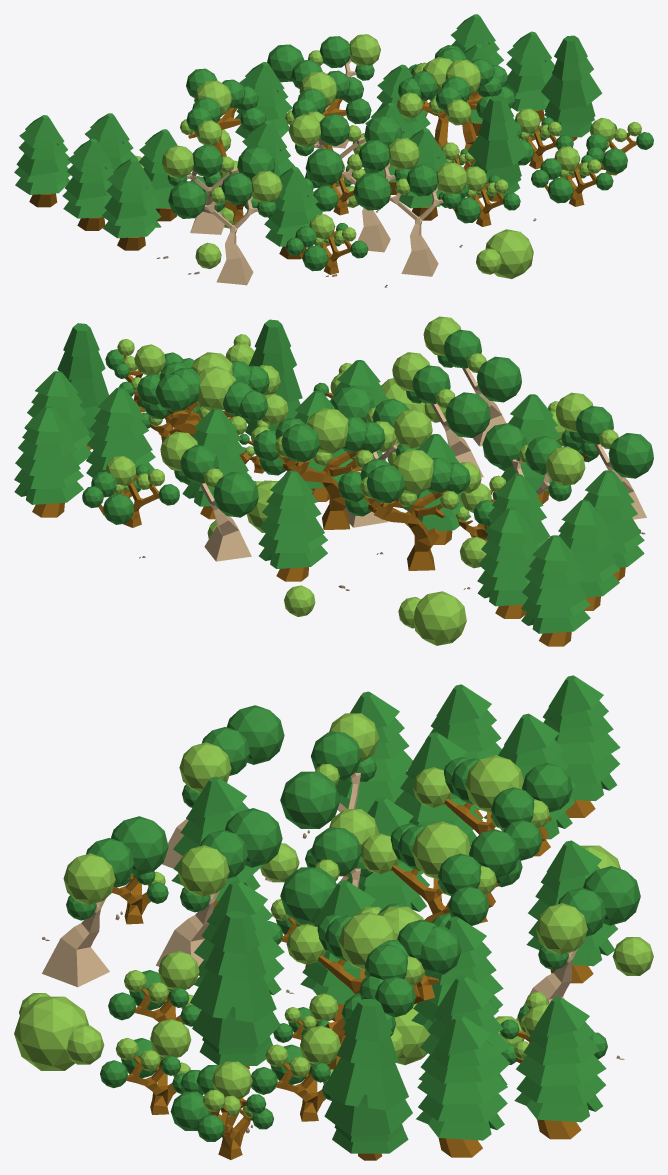
The model's file is SummerForestV1.fbx.
3 renders of one model, top to bottom at view 1: azimuth 30°, elevation 25°; view 2: azimuth 150°, elevation 25°; view 3: azimuth 270°, elevation 25°, orthographic. The views are drawn at different scales.
Visible parts, largest first — view 1: Icosphere.033, Tree1.002|Cube|Dupli|, Tree1.003|Cube|Dupli|, Cylinder.011, Tree5.001|Cylinder.011|Dupli|4, Tree1.003|Icosphere.004|Dupli|5, Tree1.002|Icosphere.004|Dupli|5, Tree1.001|Icosphere.004|Dupli|5, Tree1.001|Cube|Dupli|, Tree1|Cube|Dupli|, Tree1.004|Icosphere.004|Dupli|5, Tree1|Icosphere.004|Dupli|5 (+84 smaller); view 2: Tree2|Cube.001|Dupli|, Icosphere.030, Tree2.002|Cube.001|Dupli|, Tree1.003|Icosphere.004|Dupli|5, Tree1.004|Icosphere.004|Dupli|5, Tree1.001|Icosphere.004|Dupli|5, Tree1.002|Icosphere.004|Dupli|5, Tree1.004|Cube|Dupli|, Tree1|Icosphere.004|Dupli|5, Tree2|Icosphere.009|Dupli|5, Tree2.002|Icosphere.009|Dupli|5, Tree1|Icosphere.001|Dupli|2 (+98 smaller); view 3: Icosphere.033, Tree5.001|Cylinder.011|Dupli|4, Tree1.002|Cube|Dupli|, Tree1|Icosphere.004|Dupli|5, Cylinder.011, Icosphere.004, Tree5.001|Cylinder.010|Dupli|3, Tree1.004|Icosphere.004|Dupli|5, Tree1.003|Icosphere.004|Dupli|5, Tree1.001|Icosphere.004|Dupli|5, Tree1.002|Icosphere.004|Dupli|5, Tree2|Icosphere.009|Dupli|5 (+100 smaller).
Part boxes in pixels (x1,y1,x2,y2): Icosphere.033: [485, 229, 533, 278]; Tree1.002|Cube|Dupli|: [389, 187, 443, 276]; Tree1.003|Cube|Dupli|: [204, 195, 258, 285]; Cylinder.011: [541, 73, 602, 109]; Tree5.001|Cylinder.011|Dupli|4: [467, 133, 528, 169]; Tree1.003|Icosphere.004|Dupli|5: [168, 181, 206, 218]; Tree1.002|Icosphere.004|Dupli|5: [353, 172, 391, 210]; Tree1.001|Icosphere.004|Dupli|5: [305, 148, 343, 185]; Tree1.001|Cube|Dupli|: [341, 162, 395, 252]; Tree1|Cube|Dupli|: [187, 168, 238, 234]; Tree1.004|Icosphere.004|Dupli|5: [267, 44, 303, 82]; Tree1|Icosphere.004|Dupli|5: [237, 146, 275, 180]; Tree2|Cube.001|Dupli|: [363, 491, 446, 570]; Icosphere.030: [413, 591, 466, 645]; Tree2.002|Cube.001|Dupli|: [278, 450, 361, 529]; Tree1.003|Icosphere.004|Dupli|5: [608, 433, 653, 478]; Tree1.004|Icosphere.004|Dupli|5: [213, 472, 258, 517]; Tree1.001|Icosphere.004|Dupli|5: [445, 392, 490, 437]; Tree1.002|Icosphere.004|Dupli|5: [476, 356, 521, 402]; Tree1.004|Cube|Dupli|: [199, 483, 251, 561]; Tree1|Icosphere.004|Dupli|5: [482, 423, 527, 469]; Tree2|Icosphere.009|Dupli|5: [392, 449, 433, 494]; Tree2.002|Icosphere.009|Dupli|5: [306, 408, 348, 453]; Tree1|Icosphere.001|Dupli|2: [545, 446, 585, 485]; Icosphere.033: [14, 996, 88, 1070]; Tree5.001|Cylinder.011|Dupli|4: [190, 970, 276, 1022]; Tree1.002|Cube|Dupli|: [42, 898, 109, 987]; Tree1|Icosphere.004|Dupli|5: [280, 771, 340, 828]; Cylinder.011: [322, 1057, 402, 1110]; Icosphere.004: [280, 867, 336, 924]; Tree5.001|Cylinder.010|Dupli|3: [192, 1010, 280, 1048]; Tree1.004|Icosphere.004|Dupli|5: [583, 866, 640, 925]; Tree1.003|Icosphere.004|Dupli|5: [227, 705, 284, 764]; Tree1.001|Icosphere.004|Dupli|5: [225, 808, 282, 867]; Tree1.002|Icosphere.004|Dupli|5: [111, 816, 168, 875]; Tree2|Icosphere.009|Dupli|5: [465, 755, 523, 813].
Size of the model in its own units: 4437 by 1052 by 3100.
